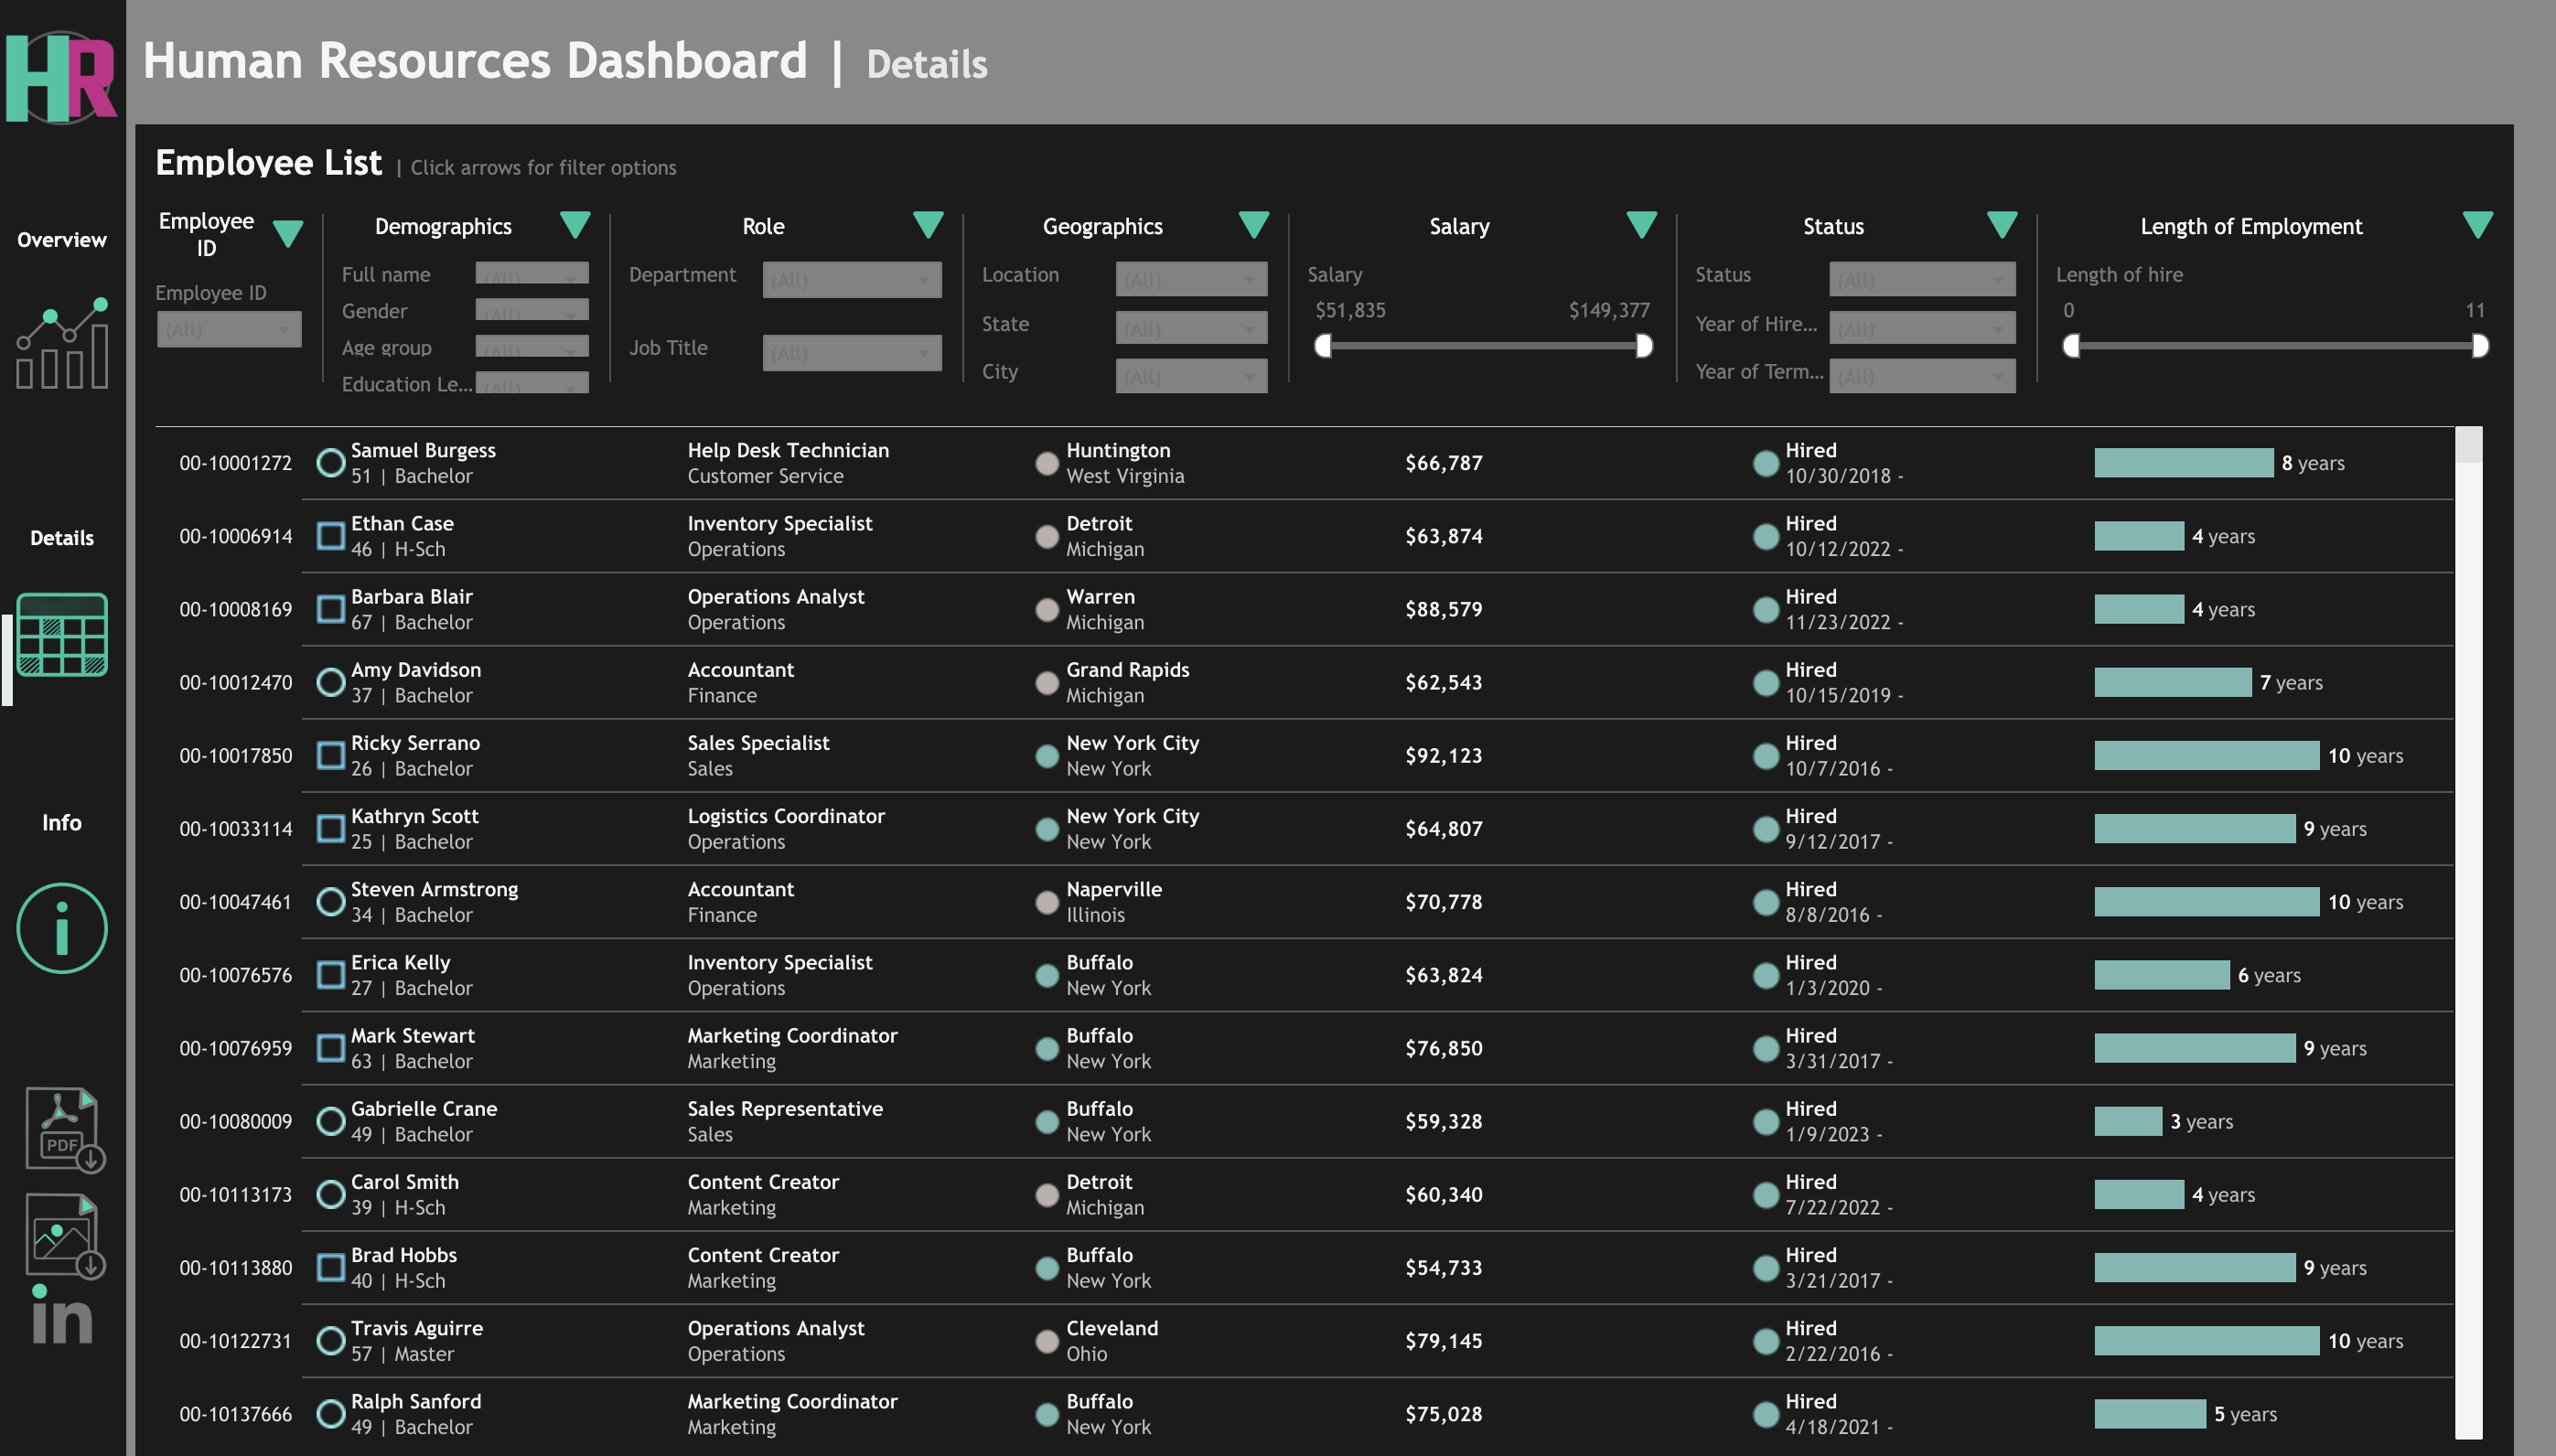

This screenshot's page, from the dashboard's own definition file:
{"tool":"tableau","page":{"name":"HR | Details","canvas":[1400,800],"ordinal":0},"visuals":[{"type":"image","param":"Image/Logo.png","box":[0,0,70,89]},{"type":"text","box":[75,0,1300,70]},{"type":"blank","box":[89,0,1309,266]},{"type":"text","box":[82,77,1286,32]},{"type":"text","box":[10,99,50,47]},{"type":"text","box":[82,109,64,42]},{"type":"dashboard-object","box":[146,109,25,42]},{"type":"blank","box":[171,109,13,112]},{"type":"text","box":[184,109,119,32]},{"type":"dashboard-object","box":[303,109,25,32]},{"type":"blank","box":[328,109,13,112]},{"type":"text","box":[341,109,155,32]},{"type":"dashboard-object","box":[496,109,25,32]},{"type":"blank","box":[521,109,13,112]},{"type":"text","box":[534,109,140,32]},{"type":"dashboard-object","box":[674,109,25,32]},{"type":"blank","box":[699,109,13,112]},{"type":"text","box":[712,109,174,32]},{"type":"dashboard-object","box":[886,109,25,32]},{"type":"blank","box":[911,109,13,112]},{"type":"text","box":[924,109,159,32]},{"type":"dashboard-object","box":[1083,109,25,32]},{"type":"blank","box":[1108,109,13,112]},{"type":"text","box":[1121,109,222.1,32]},{"type":"dashboard-object","box":[1343,109,25,32]},{"type":"filter","title":"Detailed list","param":"[federated.002rxut0uu79rp1ef5ggb0btw1s8].[none:Calculation_0014186453921806:nk]","box":[184,141,144,20]},{"type":"filter","title":"Detailed list","param":"[federated.002rxut0uu79rp1ef5ggb0btw1s8].[none:Department:nk]","box":[341,141,180,40]},{"type":"filter","title":"Detailed list","param":"[federated.002rxut0uu79rp1ef5ggb0btw1s8].[none:Calculation_0014254542417947:nk]","box":[534,141,165,26.7]},{"type":"filter","title":"Detailed list","param":"[federated.002rxut0uu79rp1ef5ggb0btw1s8].[sum:Salary:qk]","box":[712,141,199,66]},{"type":"filter","title":"Detailed list","param":"[federated.002rxut0uu79rp1ef5ggb0btw1s8].[none:Calculation_0001060480487512:nk]","box":[924,141,184,26.7]},{"type":"filter","title":"Detailed list","param":"[federated.002rxut0uu79rp1ef5ggb0btw1s8].[sum:Calculation_0014186459574287:qk]","box":[1121,141,247,66]},{"type":"dashboard-object","box":[10,146,50,117]},{"type":"filter","title":"Detailed list","param":"[federated.002rxut0uu79rp1ef5ggb0btw1s8].[none:Employee_ID:nk]","box":[82,151,89,52]},{"type":"filter","title":"Detailed list","param":"[federated.002rxut0uu79rp1ef5ggb0btw1s8].[none:Gender:nk]","box":[184,161,144,20]},{"type":"filter","title":"Detailed list","param":"[federated.002rxut0uu79rp1ef5ggb0btw1s8].[none:State:nk]","box":[534,167.7,165,26.7]},{"type":"filter","title":"Detailed list","param":"[federated.002rxut0uu79rp1ef5ggb0btw1s8].[yr:Hiredate:ok]","box":[924,167.7,184,26.7]},{"type":"filter","title":"Detailed list","param":"[federated.002rxut0uu79rp1ef5ggb0btw1s8].[none:Calculation_0014254552805411:nk]","box":[184,181,144,20]},{"type":"filter","title":"Detailed list","param":"[federated.002rxut0uu79rp1ef5ggb0btw1s8].[none:Job Title:nk]","box":[341,181,180,40]},{"type":"filter","title":"Detailed list","param":"[federated.002rxut0uu79rp1ef5ggb0btw1s8].[none:City:nk]","box":[534,194.3,165,26.7]},{"type":"filter","title":"Detailed list","param":"[federated.002rxut0uu79rp1ef5ggb0btw1s8].[yr:Termdate:ok]","box":[924,194.3,184,26.7]},{"type":"filter","title":"Detailed list","param":"[federated.002rxut0uu79rp1ef5ggb0btw1s8].[none:Education Level:nk]","box":[184,201,144,20]},{"type":"worksheet","title":"Detailed list","mark":"Shape","rows":["Employee_ID"],"cols":["Calculation_0014186453061645","Calculation_0014186453061645","Calculation_0014186453061645","Calculation_0014186453061645","Calculation_0014186453061645","Calculation_0014186459574287"],"box":[82,231,1286,562]},{"type":"text","box":[10,263,50,45]},{"type":"text","box":[89,266,1309,267]},{"type":"dashboard-object","box":[10,308,50,112]},{"type":"blank","box":[2,338,6,50]},{"type":"dashboard-object","box":[424,344,24,24]},{"type":"text","box":[10,420,50,42]},{"type":"dashboard-object","box":[10,462,50,125]},{"type":"blank","box":[89,533,1309,267]},{"type":"dashboard-object","box":[10,587,50,66]},{"type":"dashboard-object","box":[10,653,50,50]},{"type":"image","param":"Image/contact-linkedin.png","box":[10,703,50,35]}]}

Visuals, with their boxes on the page's 1400x800 design canvas (x1, y1, x2, y2). These are canvas units, not pixel positions in the 2556x1456 screenshot, which may show the page scaled, cropped or inside an application window:
image: {"left": 0, "top": 0, "right": 70, "bottom": 89}
text: {"left": 75, "top": 0, "right": 1375, "bottom": 70}
blank: {"left": 89, "top": 0, "right": 1398, "bottom": 266}
text: {"left": 82, "top": 77, "right": 1368, "bottom": 109}
text: {"left": 10, "top": 99, "right": 60, "bottom": 146}
text: {"left": 82, "top": 109, "right": 146, "bottom": 151}
dashboard-object: {"left": 146, "top": 109, "right": 171, "bottom": 151}
blank: {"left": 171, "top": 109, "right": 184, "bottom": 221}
text: {"left": 184, "top": 109, "right": 303, "bottom": 141}
dashboard-object: {"left": 303, "top": 109, "right": 328, "bottom": 141}
blank: {"left": 328, "top": 109, "right": 341, "bottom": 221}
text: {"left": 341, "top": 109, "right": 496, "bottom": 141}
dashboard-object: {"left": 496, "top": 109, "right": 521, "bottom": 141}
blank: {"left": 521, "top": 109, "right": 534, "bottom": 221}
text: {"left": 534, "top": 109, "right": 674, "bottom": 141}
dashboard-object: {"left": 674, "top": 109, "right": 699, "bottom": 141}
blank: {"left": 699, "top": 109, "right": 712, "bottom": 221}
text: {"left": 712, "top": 109, "right": 886, "bottom": 141}
dashboard-object: {"left": 886, "top": 109, "right": 911, "bottom": 141}
blank: {"left": 911, "top": 109, "right": 924, "bottom": 221}
text: {"left": 924, "top": 109, "right": 1083, "bottom": 141}
dashboard-object: {"left": 1083, "top": 109, "right": 1108, "bottom": 141}
blank: {"left": 1108, "top": 109, "right": 1121, "bottom": 221}
text: {"left": 1121, "top": 109, "right": 1343, "bottom": 141}
dashboard-object: {"left": 1343, "top": 109, "right": 1368, "bottom": 141}
"Detailed list" filter: {"left": 184, "top": 141, "right": 328, "bottom": 161}
"Detailed list" filter: {"left": 341, "top": 141, "right": 521, "bottom": 181}
"Detailed list" filter: {"left": 534, "top": 141, "right": 699, "bottom": 168}
"Detailed list" filter: {"left": 712, "top": 141, "right": 911, "bottom": 207}
"Detailed list" filter: {"left": 924, "top": 141, "right": 1108, "bottom": 168}
"Detailed list" filter: {"left": 1121, "top": 141, "right": 1368, "bottom": 207}
dashboard-object: {"left": 10, "top": 146, "right": 60, "bottom": 263}
"Detailed list" filter: {"left": 82, "top": 151, "right": 171, "bottom": 203}
"Detailed list" filter: {"left": 184, "top": 161, "right": 328, "bottom": 181}
"Detailed list" filter: {"left": 534, "top": 168, "right": 699, "bottom": 194}
"Detailed list" filter: {"left": 924, "top": 168, "right": 1108, "bottom": 194}
"Detailed list" filter: {"left": 184, "top": 181, "right": 328, "bottom": 201}
"Detailed list" filter: {"left": 341, "top": 181, "right": 521, "bottom": 221}
"Detailed list" filter: {"left": 534, "top": 194, "right": 699, "bottom": 221}
"Detailed list" filter: {"left": 924, "top": 194, "right": 1108, "bottom": 221}
"Detailed list" filter: {"left": 184, "top": 201, "right": 328, "bottom": 221}
"Detailed list" worksheet (Shape marks): {"left": 82, "top": 231, "right": 1368, "bottom": 793}
text: {"left": 10, "top": 263, "right": 60, "bottom": 308}
text: {"left": 89, "top": 266, "right": 1398, "bottom": 533}
dashboard-object: {"left": 10, "top": 308, "right": 60, "bottom": 420}
blank: {"left": 2, "top": 338, "right": 8, "bottom": 388}
dashboard-object: {"left": 424, "top": 344, "right": 448, "bottom": 368}
text: {"left": 10, "top": 420, "right": 60, "bottom": 462}
dashboard-object: {"left": 10, "top": 462, "right": 60, "bottom": 587}
blank: {"left": 89, "top": 533, "right": 1398, "bottom": 800}
dashboard-object: {"left": 10, "top": 587, "right": 60, "bottom": 653}
dashboard-object: {"left": 10, "top": 653, "right": 60, "bottom": 703}
image: {"left": 10, "top": 703, "right": 60, "bottom": 738}
